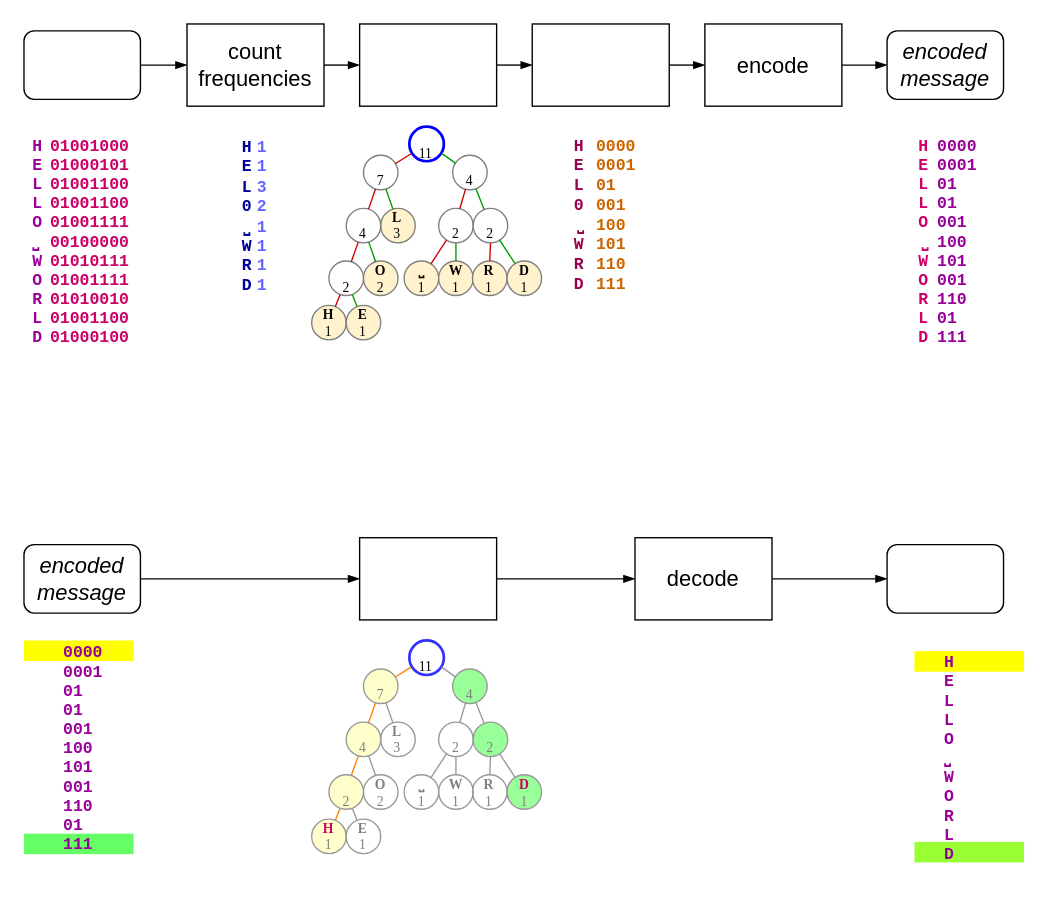
Some shapes in this 1048 by 897 pixel diagram are drawn without their labels. Here are the shapes that lost their labels. From the top down, the centre of each, then its label:
At [81,64]: "message".
At [427,64]: "build Huffman tree".
At [600,64]: "derive encoding".
At [427,578]: "use Huffman tree".
At [945,578]: "decoded message".
